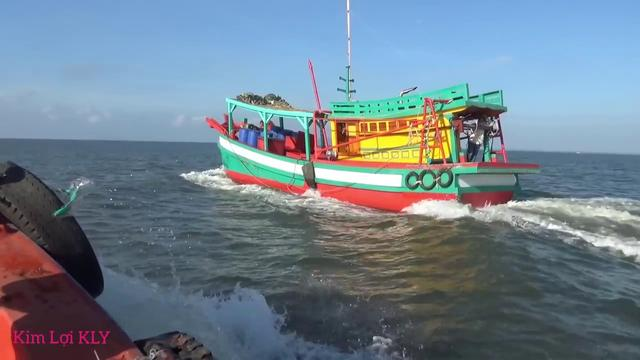Ship: (208, 77, 544, 212)
